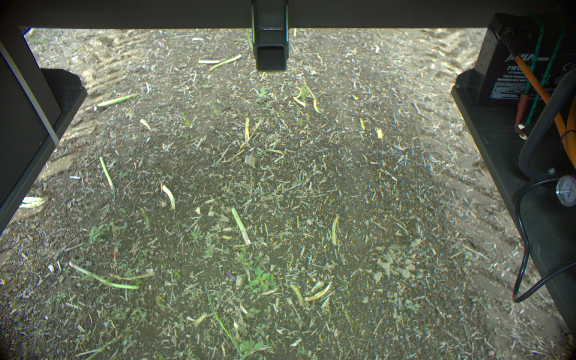aspa: (66, 261, 139, 290), (231, 206, 253, 248)
